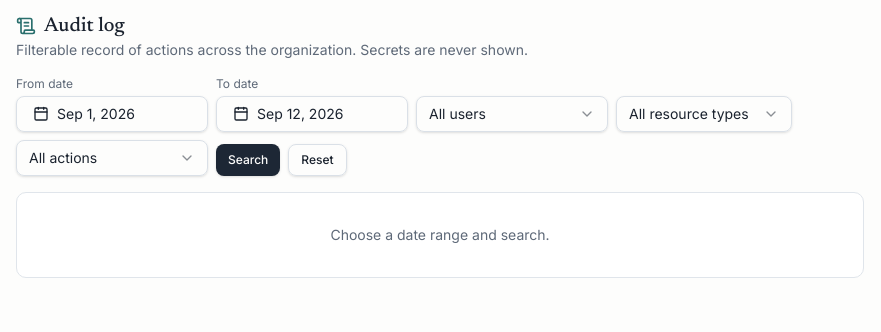
AdminAudit › loads the next page with nextCursor when Load more is clicked
Click the button "Search" at (248, 160), box [216,144,280,176]
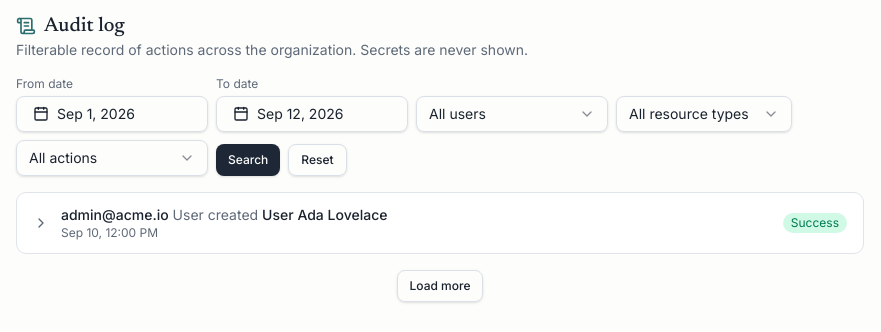
Expected: the text "admin@acme.io" is shown, [61,206,169,223]
Expected: the button "Load more" is shown
Click the button "Load more" at (440, 286), box [396,270,484,302]
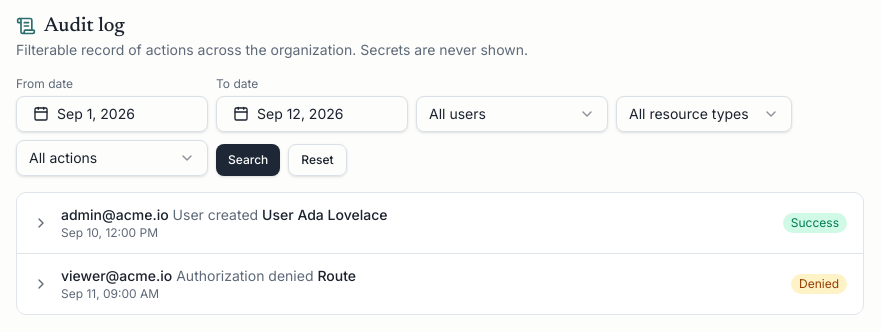
Expected: the text "viewer@acme.io" is shown, [61,267,172,284]
Expected: the button "Load more" is gone
